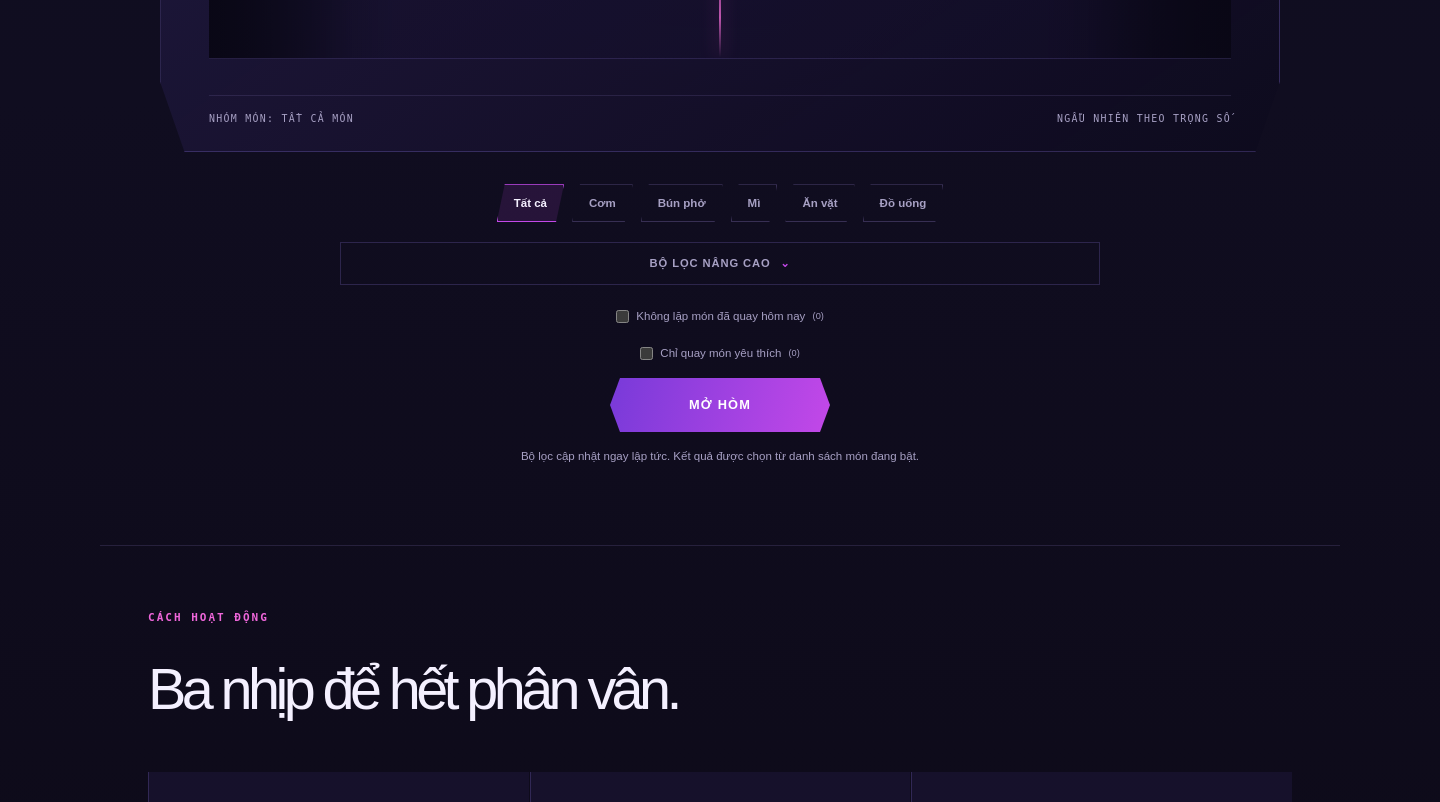
Test: CaseStage › shows a contextual message when the pool is empty
This screenshot has width=1440, height=802.
(page scrolled)
Step 1. Click the button "MỞ HÒM" → (720, 405), box [610, 378, 830, 432]
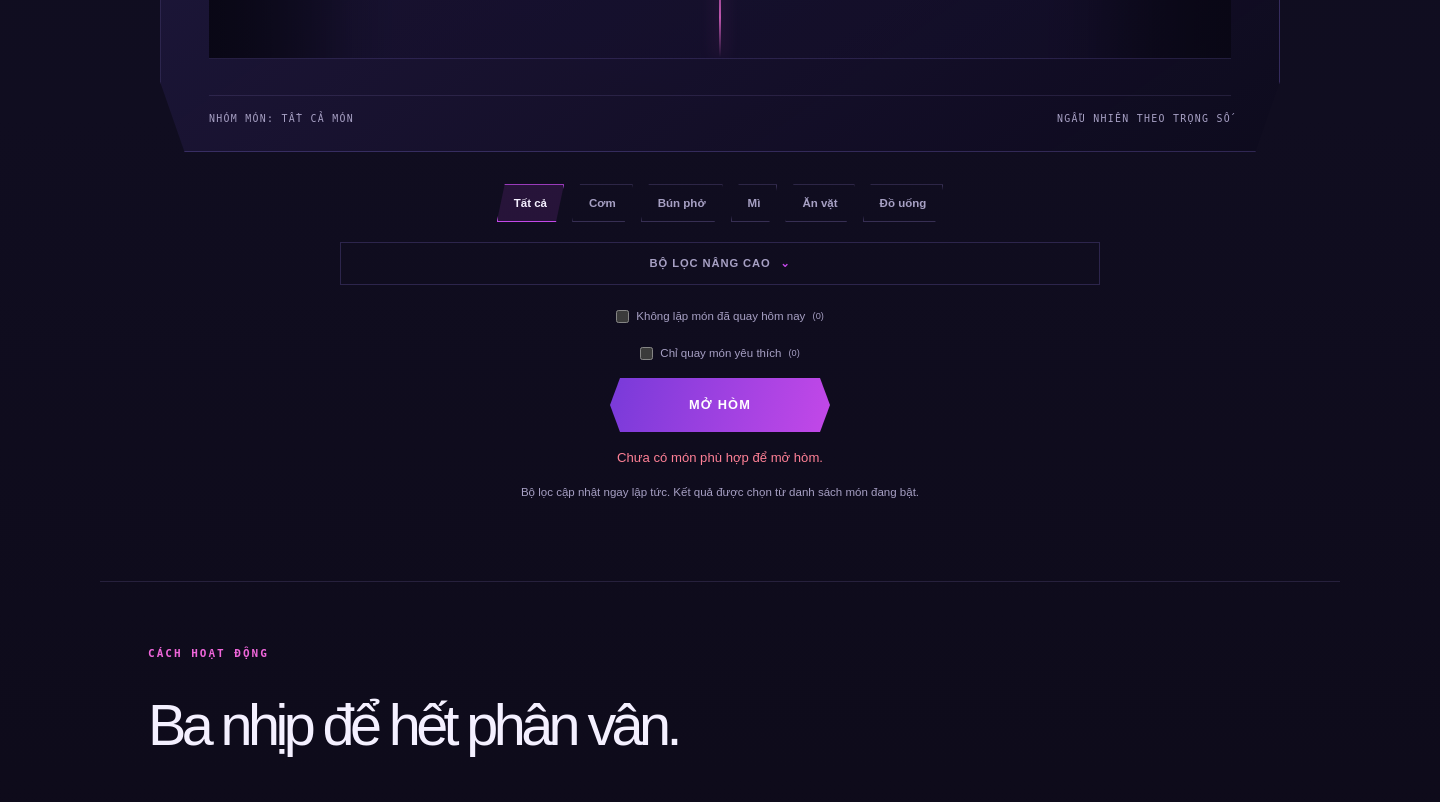
Result: the text "Chưa có món phù hợp để mở hòm." is shown at [617, 448, 823, 468]
